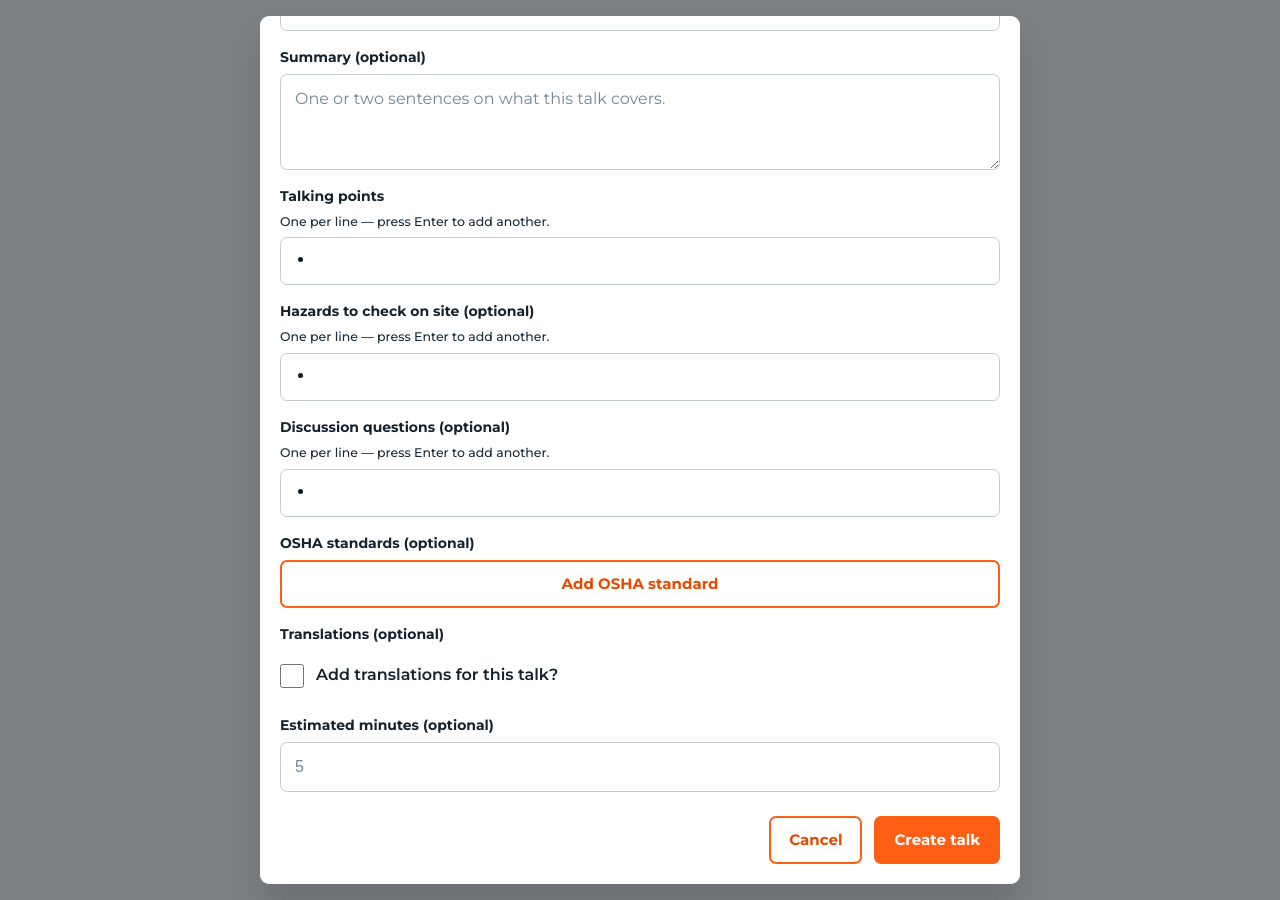
Scenario: TalkForm › shows validation errors and does not submit when required fields are empty
This screenshot has width=1280, height=900.
(page scrolled)
Click the button "Create talk" at (937, 840), box [874,816,1000,864]
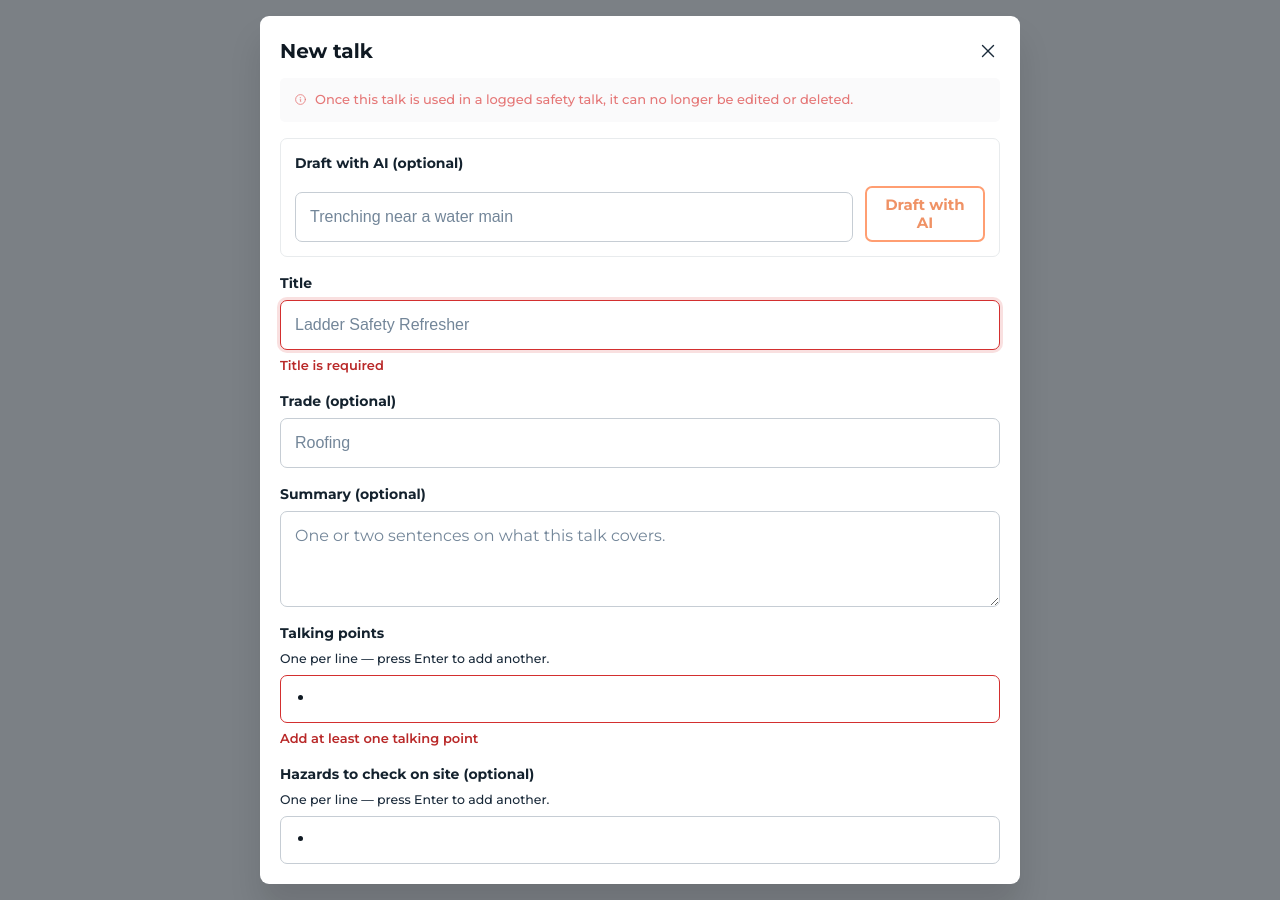
Expected: the text "Title is required" is shown, [280,356,384,372]
Expected: the text "Add at least one talking point" is shown, [280,730,478,746]
